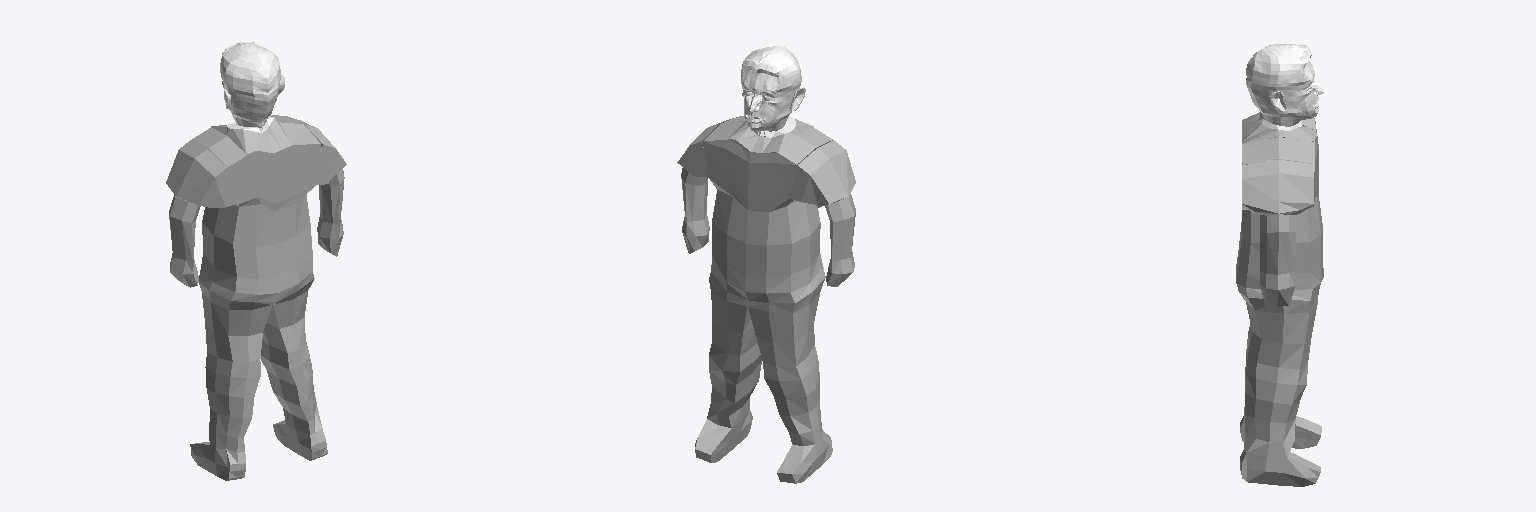
The model's file is logan_completo_final.obj.
3 renders of one model, left to right at view 1: azimuth 30°, elevation 25°; view 2: azimuth 150°, elevation 25°; view 3: azimuth 270°, elevation 25°, orthographic.
Visible parts, largest first — view 1: tronco, cabeca, coxa_e, ante_e, perna_e, coxa_d, perna_d, bacai_e, braco_e, pe_e, pe_d, ante_d (+4 smaller); view 2: tronco, cabeca, coxa_e, ante_e, coxa_d, perna_e, bacai_e, perna_d, pe_d, pe_e, braco_e, bacia_d (+4 smaller); view 3: cabeca, tronco, coxa_d, perna_d, ante_d, pe_d, braco_d, bacia_d, mao_d, pe_e.
Part boxes in pixels (bbox=[...]): tronco: bbox=[192, 115, 320, 278]; cabeca: bbox=[211, 41, 291, 153]; coxa_e: bbox=[202, 293, 271, 378]; ante_e: bbox=[166, 140, 236, 207]; perna_e: bbox=[205, 367, 260, 452]; coxa_d: bbox=[261, 291, 309, 369]; perna_d: bbox=[261, 354, 322, 434]; bacai_e: bbox=[199, 254, 278, 309]; braco_e: bbox=[169, 195, 200, 261]; pe_e: bbox=[190, 442, 245, 480]; pe_d: bbox=[273, 420, 327, 460]; ante_d: bbox=[287, 116, 346, 184]; tronco: bbox=[703, 116, 832, 276]; cabeca: bbox=[729, 46, 813, 152]; coxa_e: bbox=[748, 293, 819, 380]; ante_e: bbox=[789, 140, 855, 207]; coxa_d: bbox=[709, 293, 760, 371]; perna_e: bbox=[765, 360, 822, 445]; bacai_e: bbox=[745, 254, 825, 313]; perna_d: bbox=[707, 355, 761, 427]; pe_d: bbox=[695, 409, 752, 462]; pe_e: bbox=[777, 429, 832, 483]; braco_e: bbox=[825, 193, 855, 260]; bacia_d: bbox=[709, 255, 747, 306]; cabeca: bbox=[1242, 44, 1323, 143]; tronco: bbox=[1238, 118, 1322, 274]; coxa_d: bbox=[1246, 302, 1317, 384]; perna_d: bbox=[1244, 373, 1306, 458]; ante_d: bbox=[1242, 160, 1314, 215]; pe_d: bbox=[1240, 450, 1320, 486]; braco_d: bbox=[1260, 214, 1295, 274]; bacia_d: bbox=[1236, 262, 1323, 313]; mao_d: bbox=[1260, 271, 1294, 306]; pe_e: bbox=[1240, 416, 1321, 448].
Bounding box in the file's own units: 12.81 × 29.44 × 5.63.